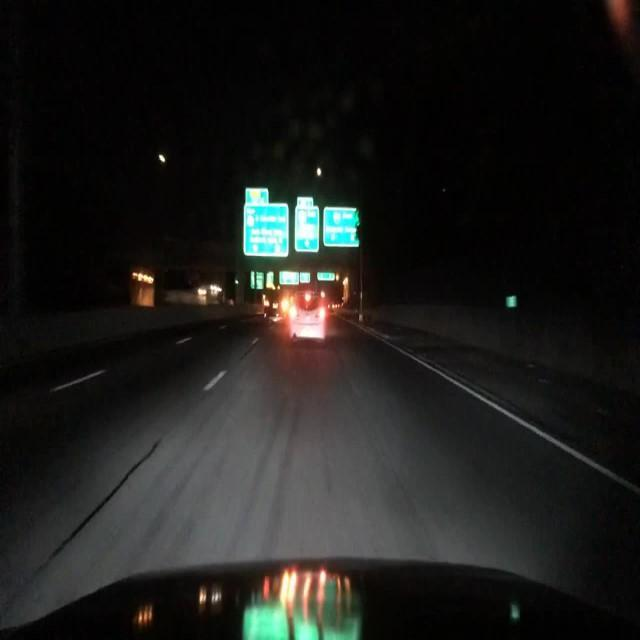normal: (253, 265, 347, 356)
